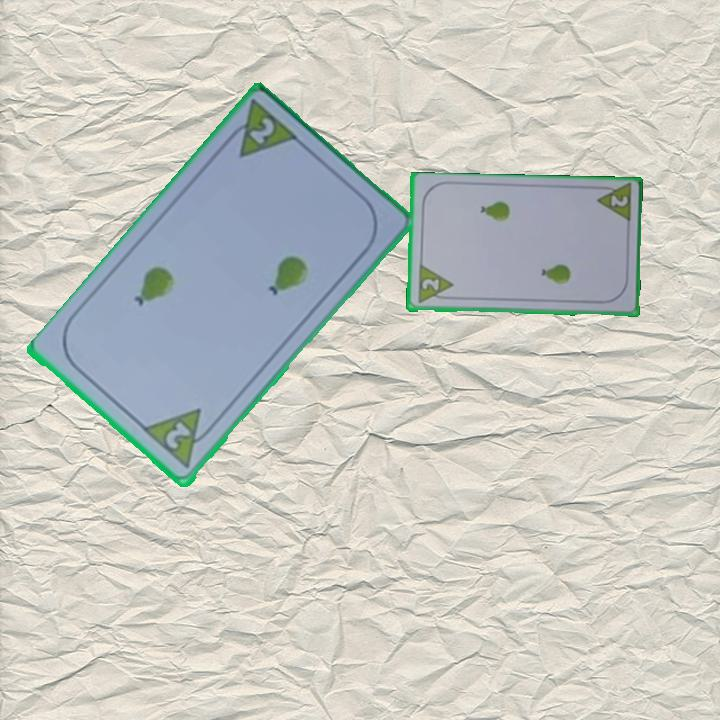2p: (141, 405, 219, 473), (592, 182, 634, 226), (245, 114, 278, 149), (418, 275, 442, 294)
